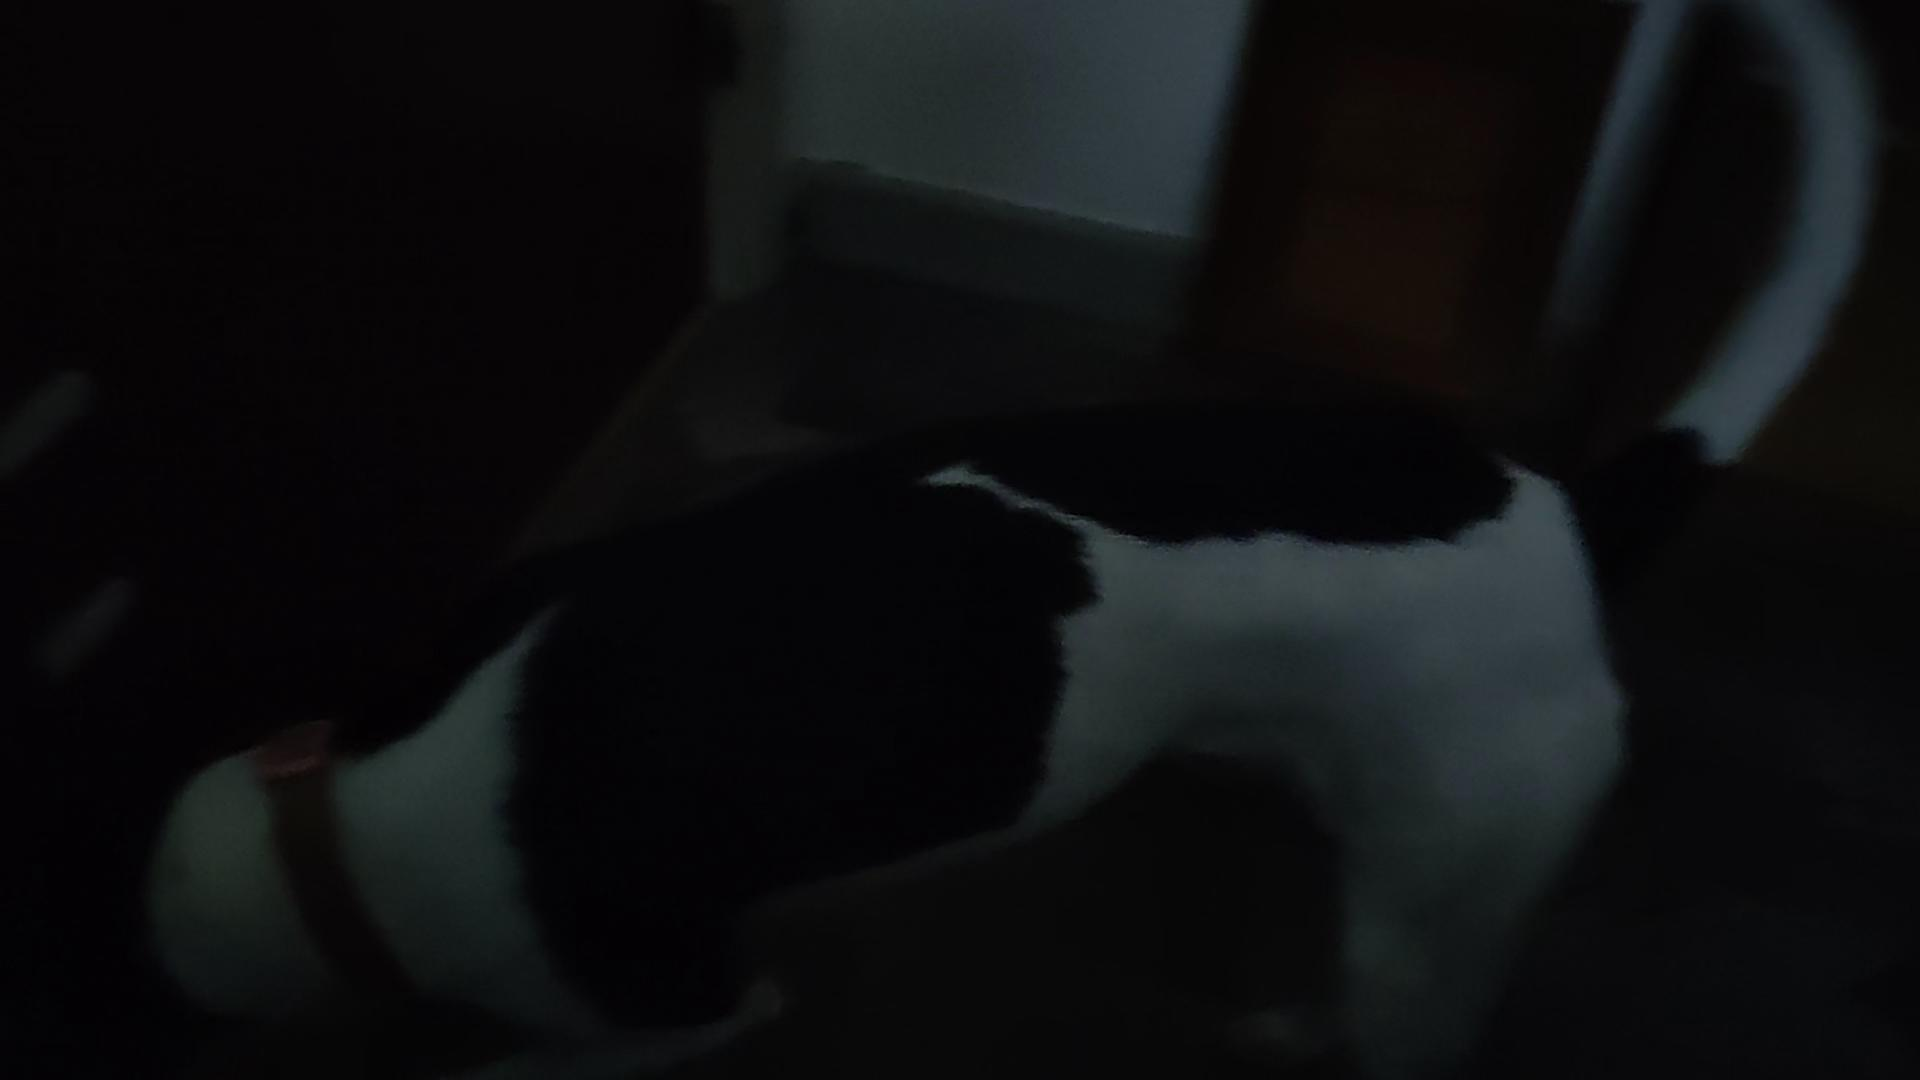Dog: (0, 0, 1878, 1079)
